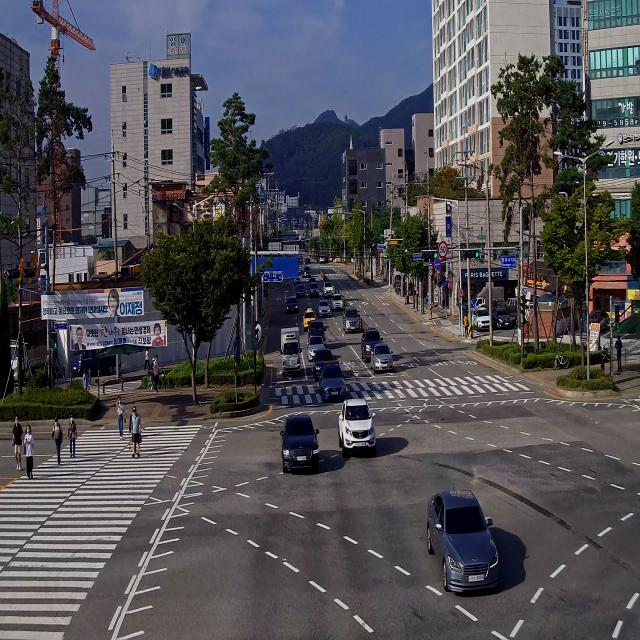Car: (424, 482, 506, 605), (270, 403, 326, 483), (336, 397, 381, 458), (579, 300, 615, 340), (318, 360, 348, 406), (366, 344, 396, 374), (488, 304, 514, 336), (341, 303, 362, 338), (313, 349, 336, 377), (471, 307, 492, 333), (307, 336, 325, 364), (308, 318, 326, 344), (302, 303, 317, 331), (506, 303, 522, 326), (459, 298, 472, 324), (285, 294, 299, 317), (506, 295, 524, 311), (331, 291, 344, 312), (318, 298, 330, 320), (490, 297, 508, 311), (322, 280, 332, 298), (296, 283, 306, 301), (302, 264, 312, 280), (318, 254, 327, 269), (310, 283, 319, 298), (293, 270, 302, 284), (309, 276, 316, 288)
Truck: (5, 328, 57, 388), (277, 324, 305, 383), (72, 340, 116, 377), (468, 280, 504, 308)
